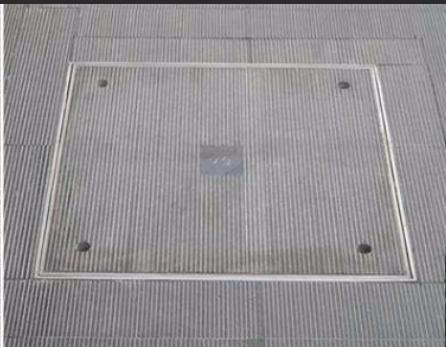wellcover: (25, 45, 438, 294)
